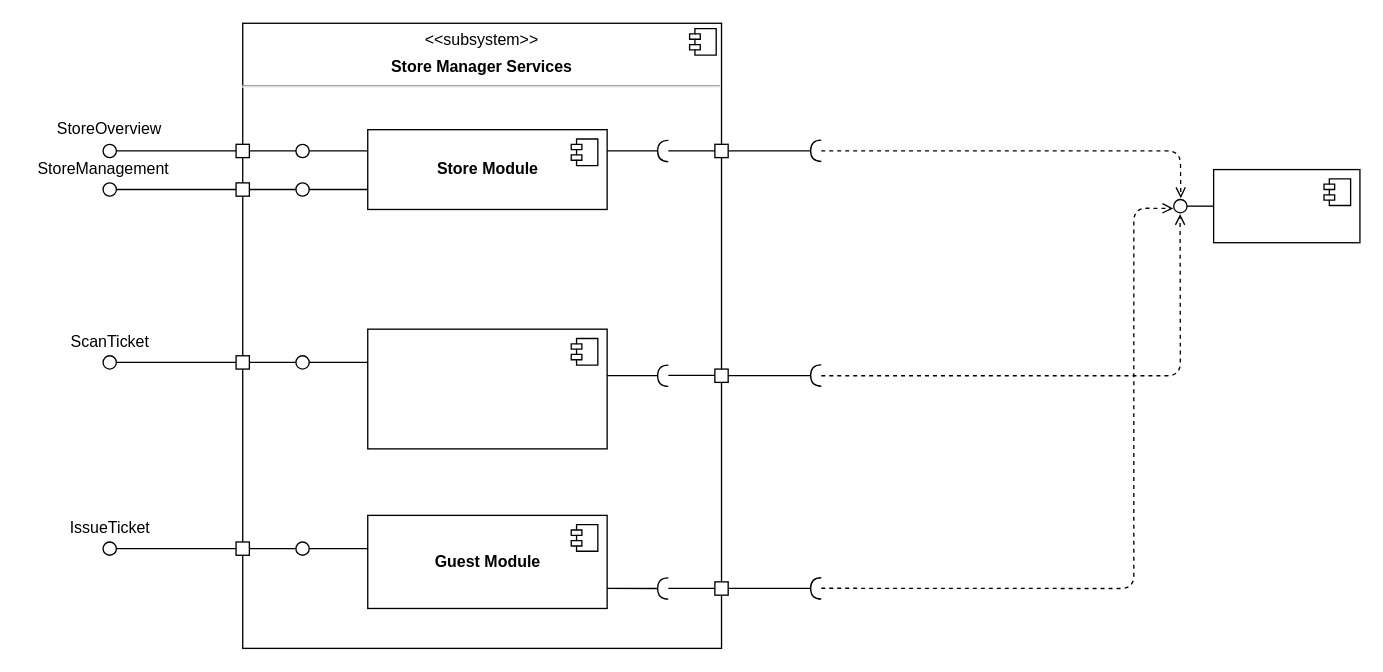
This 1383x672 diagram has some shape labels left out. Each missing label, with the centre of its shape:
DBMS: point 1286,205
Ticket Check Module: point 486,388
